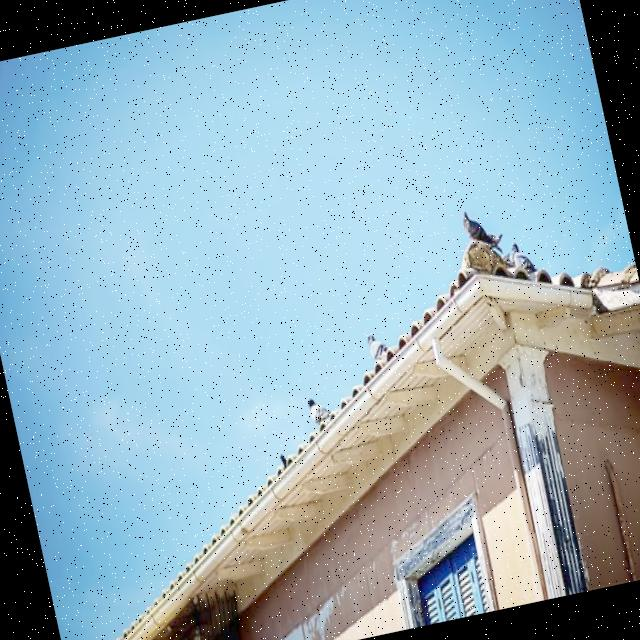bird: (456, 232, 511, 284), (460, 202, 506, 255), (306, 393, 337, 432), (507, 238, 537, 278), (501, 240, 524, 270)
